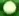white: (0, 0, 19, 16)
